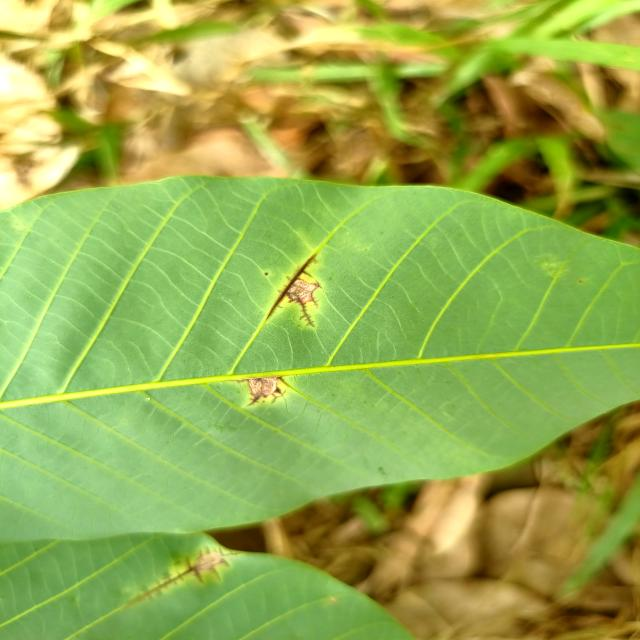Corynespora: (125, 547, 242, 607), (266, 253, 324, 327), (248, 376, 286, 406)
